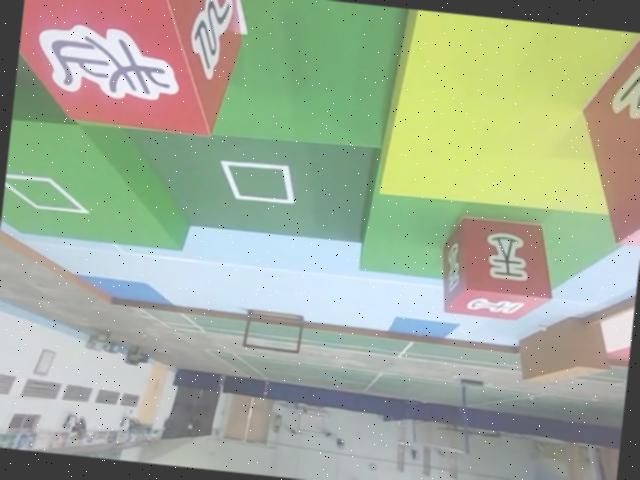R2 Fake: (11, 0, 252, 142)
R2 Real: (432, 210, 561, 326)
